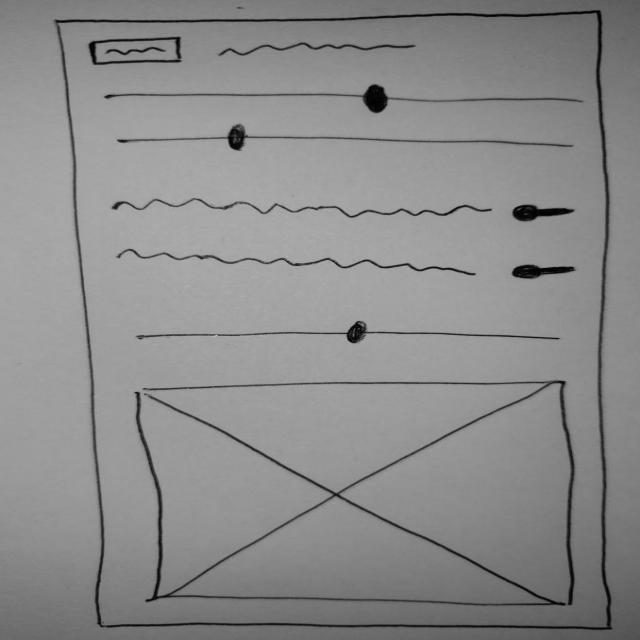button: (88, 37, 187, 68)
image: (131, 380, 581, 614)
input: (49, 11, 619, 636)
slider: (96, 83, 589, 115), (115, 123, 585, 153), (134, 322, 566, 348)
text: (116, 247, 490, 284), (114, 195, 498, 223), (217, 41, 423, 59)
toggle: (508, 262, 582, 285), (509, 202, 581, 224)
